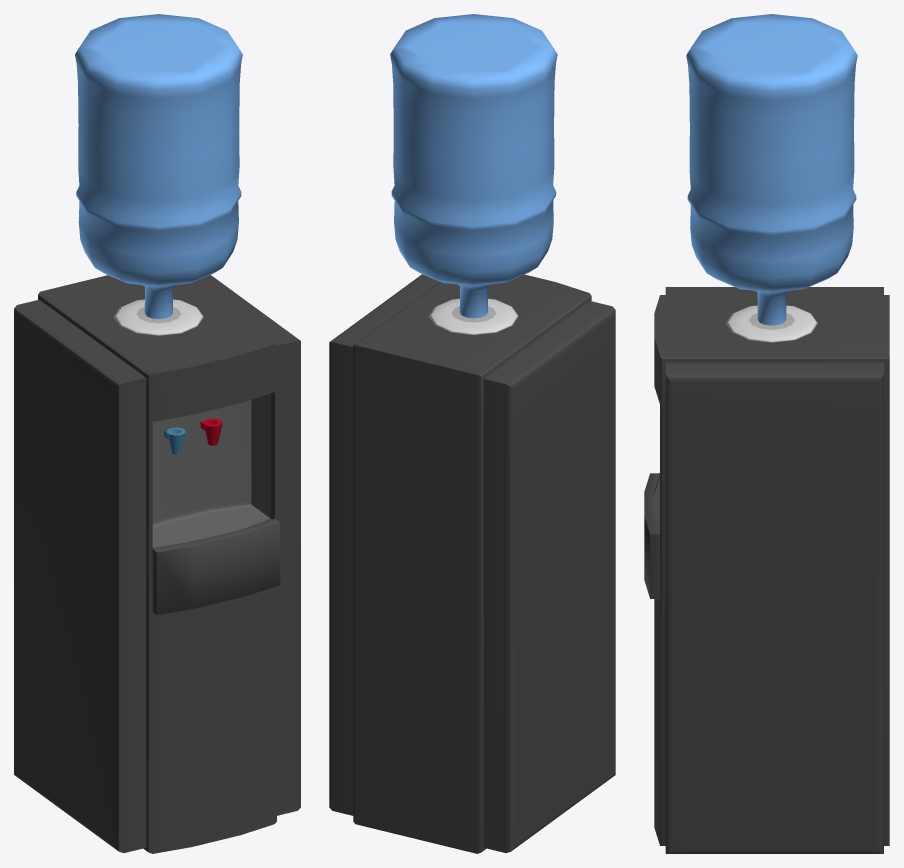
File: Dispenser.fbx
3 views of the same model, side by side, from view 1: azimuth 30°, elevation 25°; view 2: azimuth 150°, elevation 25°; view 3: azimuth 270°, elevation 25° (orthographic). The views are drawn at different scales.
Parts seen in each view (by area): view 1: Dispenser; view 2: Dispenser; view 3: Dispenser.
Boxes of the visible parts, left/top/right/bottom form: Dispenser: left=14, top=14, right=300, bottom=853; Dispenser: left=329, top=14, right=615, bottom=853; Dispenser: left=644, top=14, right=889, bottom=853.
Bounding box in the file's own units: 49.45 × 192 × 55.53.
